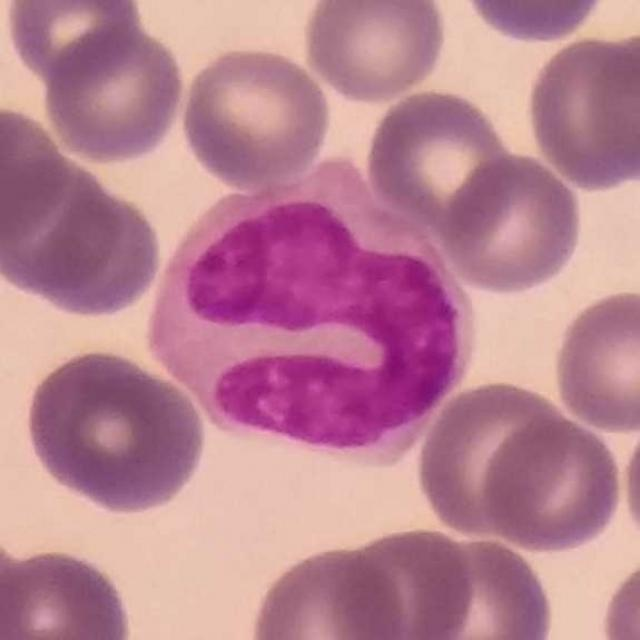mono: (145, 152, 481, 471)
